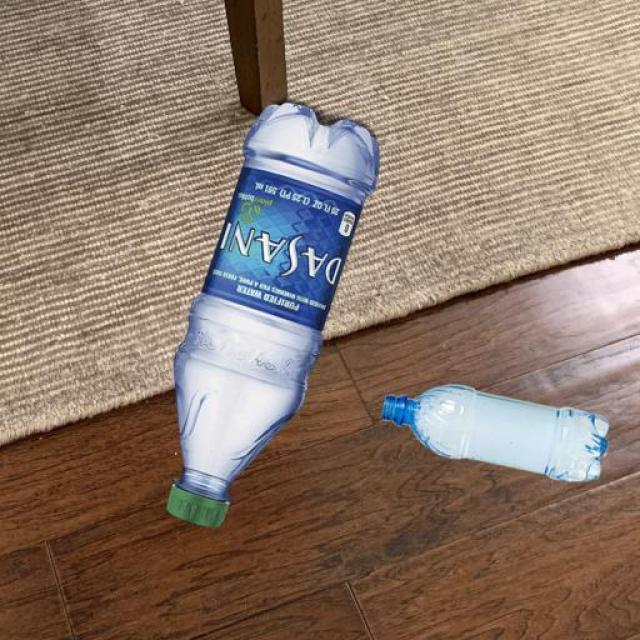bottle: (157, 88, 386, 536), (384, 364, 619, 487)
